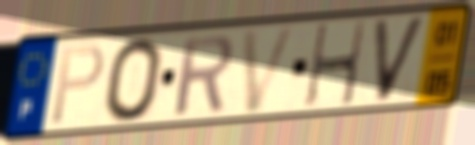H: (303, 18, 368, 111)
O: (101, 35, 166, 126)
P: (47, 41, 108, 128)
R: (172, 31, 236, 119)
V: (240, 22, 301, 117), (370, 12, 430, 106)
